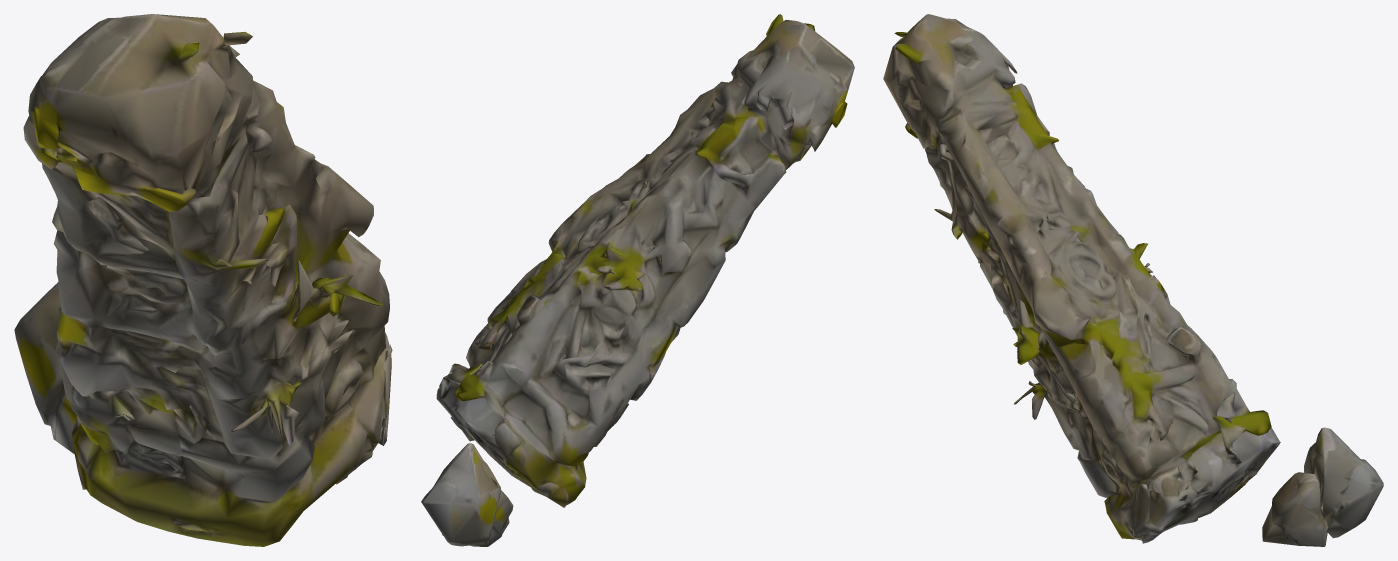
File: ruin_obelisk.glb
3 views of the same model, side by side, from view 1: azimuth 30°, elevation 25°; view 2: azimuth 150°, elevation 25°; view 3: azimuth 270°, elevation 25° (orthographic). The views are drawn at different scales.
Visible parts, largest first — view 1: tripo_node_ded00d01-6337-47b4-a5c8-720d79afb4ae; view 2: tripo_node_ded00d01-6337-47b4-a5c8-720d79afb4ae; view 3: tripo_node_ded00d01-6337-47b4-a5c8-720d79afb4ae.
Boxes of the visible parts, x1,y1,x2,y2 form: tripo_node_ded00d01-6337-47b4-a5c8-720d79afb4ae: [14, 14, 392, 546]; tripo_node_ded00d01-6337-47b4-a5c8-720d79afb4ae: [421, 14, 854, 546]; tripo_node_ded00d01-6337-47b4-a5c8-720d79afb4ae: [883, 14, 1383, 546].
Size of the model in its own units: 0.7384 by 0.9829 by 0.9993.
1 material, 1 textured.
